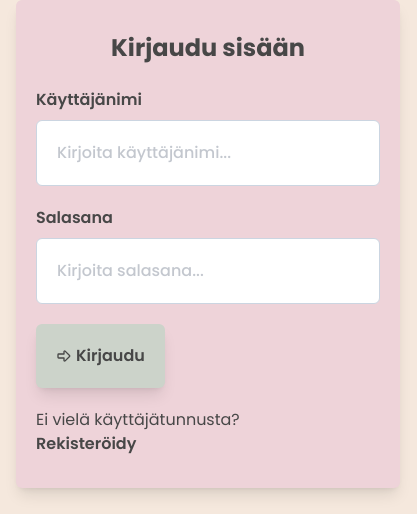
Test: LoginForm Component › shows validation messages for invalid input
The width and height of the screenshot is (417, 514).
Click the button "Kirjaudu". click: (100, 356)
box: [36,324,165,388]
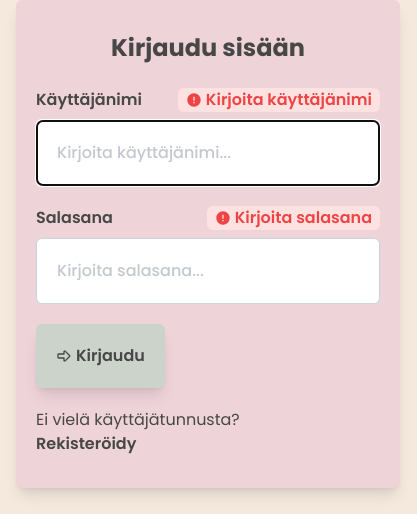
Result: the text "Kirjoita käyttäjänimi" is shown at [178,88,380,112]
